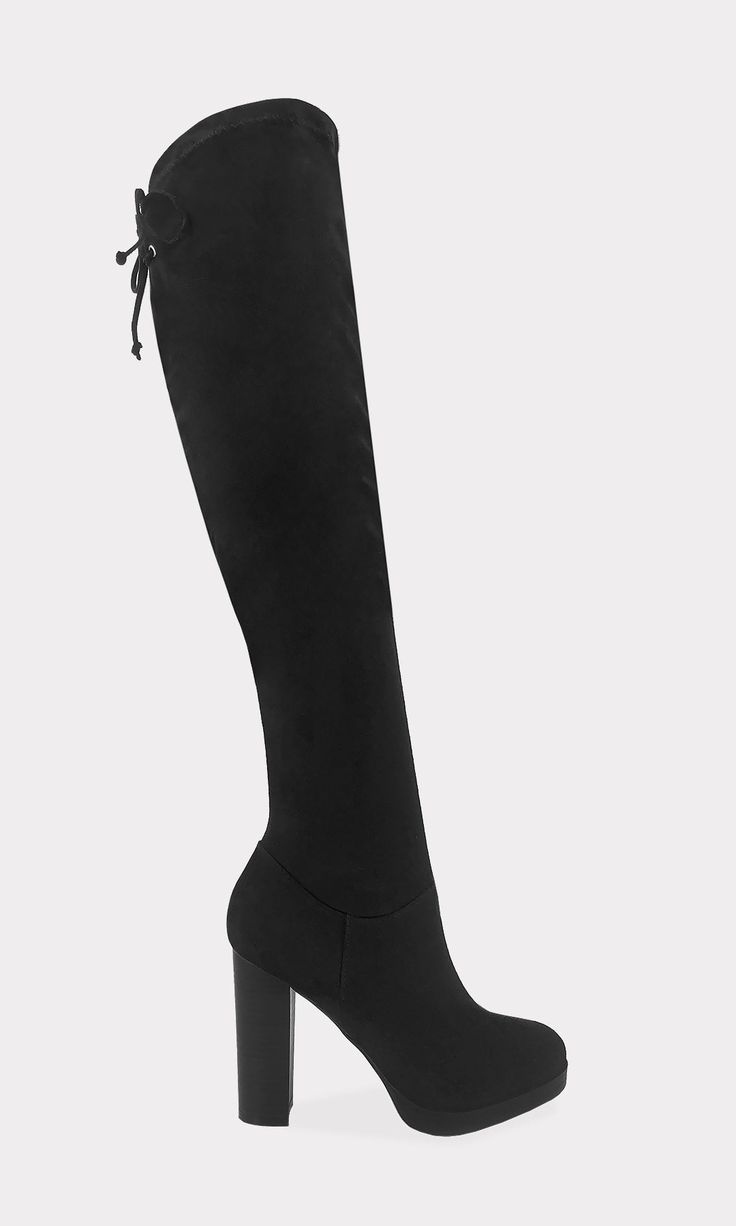gamuza: (135, 97, 570, 1111)
